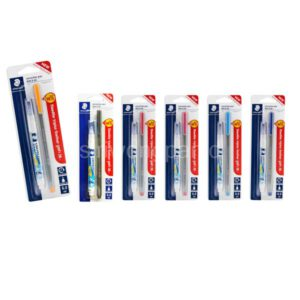Correction_fluid: (22, 97, 47, 192), (86, 120, 98, 197), (129, 120, 141, 197), (172, 120, 184, 197), (214, 119, 226, 196), (258, 116, 270, 193)
